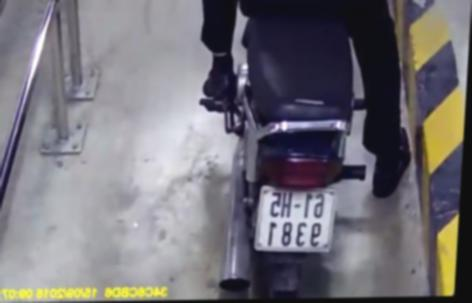License_Plate: (239, 186, 343, 252)
